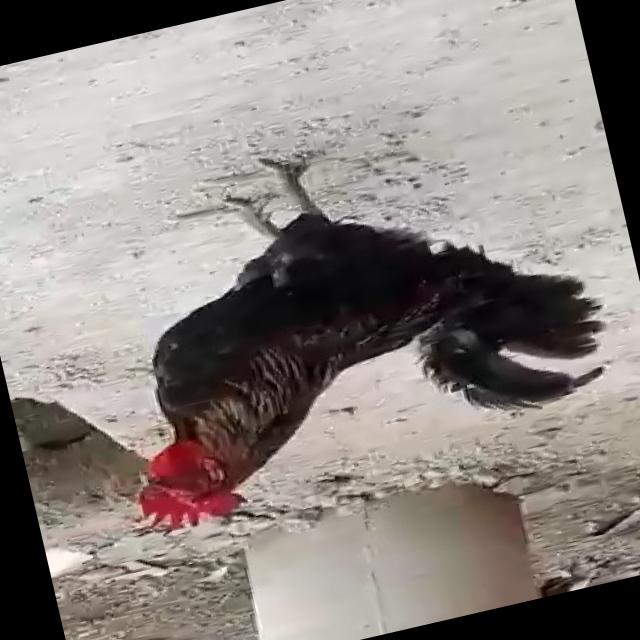walking: (0, 68, 640, 604)
